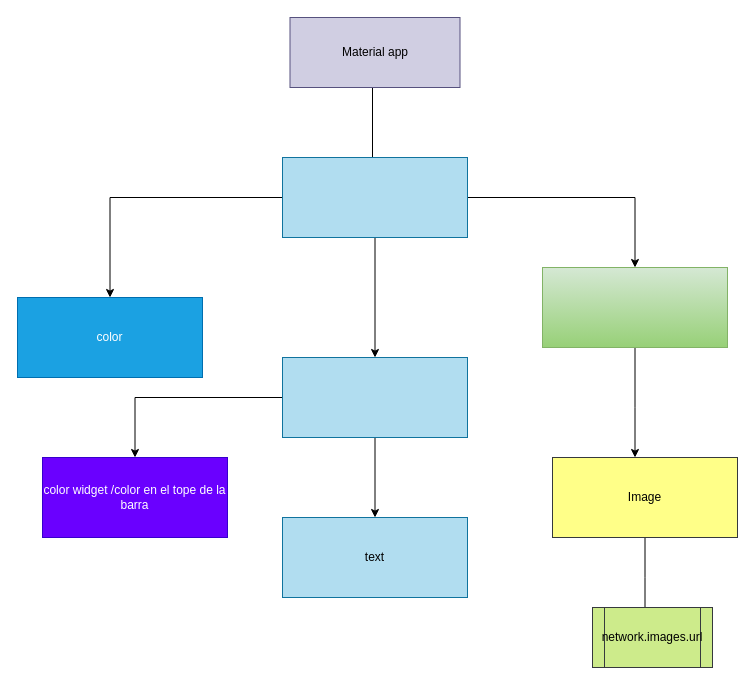
Image size: 755x685. Some labels were removed from this diagram. Here are the shapes that lost their labels. From the top down, the centre of each, then its label:
At (x=375, y=197): "scaffold".
At (x=635, y=307): "center".
At (x=375, y=397): "App bar".
